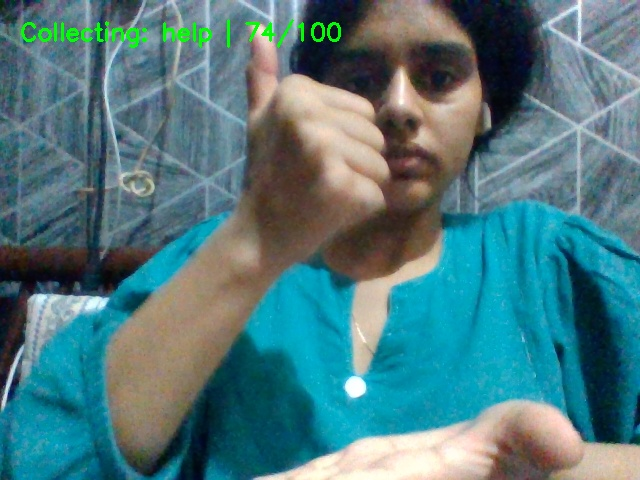help: (240, 4, 561, 440)
